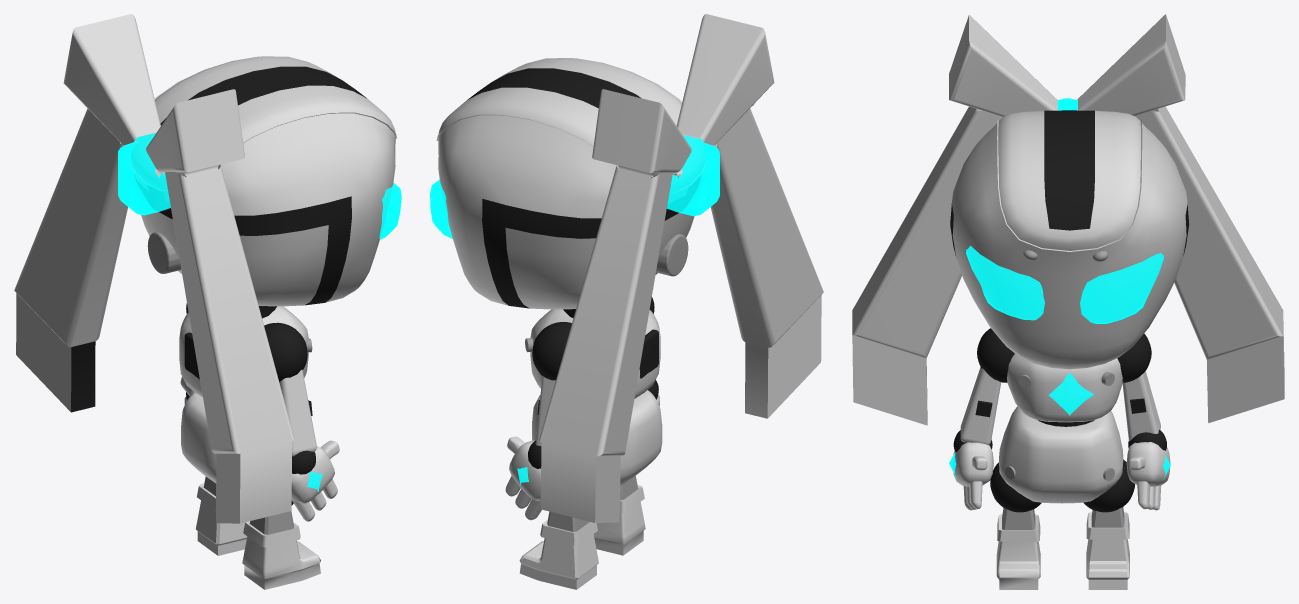
Rendered from robot.glb.
3 views of the same model, side by side, from view 1: azimuth 30°, elevation 25°; view 2: azimuth 150°, elevation 25°; view 3: azimuth 270°, elevation 25° (orthographic). The views are drawn at different scales.
Visible parts, largest first — view 1: polySurface8, pCube1, polySurface13, polySurface12, polySurface9, polySurface19, pCube13, pSphere4, polySurface11, pCylinder7, pCube3; view 2: polySurface8, pCube1, polySurface12, polySurface9, polySurface13, polySurface16, pSphere3, polySurface11, pCylinder7, pCube4, pCube24, pCube14; view 3: polySurface8, pCube1, polySurface9, polySurface11, pCube4, polySurface13, polySurface12, pCube3, polySurface16, polySurface19, pCube13, pCube14 (+5 smaller).
Boxes of the visible parts, x1,y1,x2,y2 form: polySurface8: (14,14,294,523); pCube1: (141,56,397,306); polySurface13: (242,511,320,589); polySurface12: (196,476,247,555); polySurface9: (181,392,216,483); polySurface19: (291,440,339,521); pCube13: (279,369,316,456); pSphere4: (264,322,307,381); polySurface11: (179,306,308,396); pCylinder7: (147,231,181,273); pCube3: (379,182,401,239); polySurface8: (539,14,823,522); pCube1: (436,58,694,309); polySurface12: (519,511,598,589); polySurface9: (532,390,662,485); polySurface13: (593,476,645,555); polySurface16: (505,436,541,520); pSphere3: (532,322,571,380); polySurface11: (530,309,660,398); pCylinder7: (656,233,688,276); pCube4: (430,179,452,238); pCube24: (639,329,658,378); pCube14: (535,376,555,446); polySurface8: (852,14,1284,425); pCube1: (950,110,1189,369); polySurface9: (999,406,1123,503); polySurface11: (1007,353,1122,422); pCube4: (1080,253,1163,323); polySurface13: (996,508,1040,589); polySurface12: (1086,507,1129,589); pCube3: (966,246,1044,320); polySurface16: (1126,442,1170,510); polySurface19: (953,442,993,510); pCube13: (960,367,1001,445); pCube14: (1122,371,1160,441).
Size of the model in its own units: 0.0386 by 0.0742 by 0.0577.
